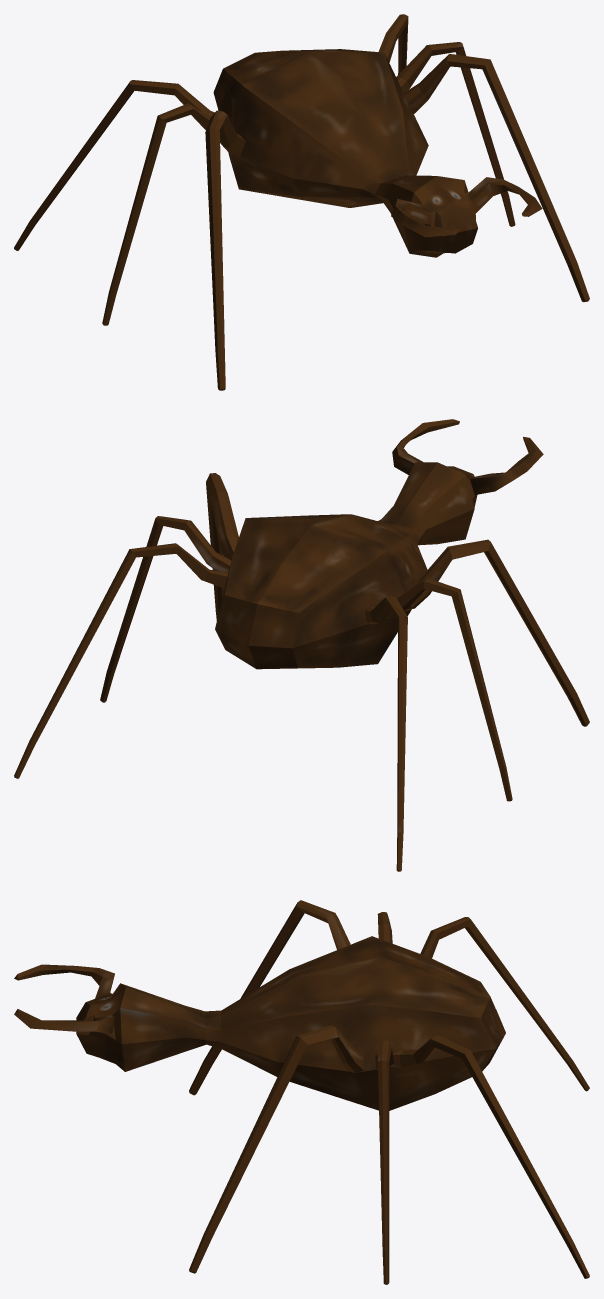
The model's file is Bug.fbx.
3 views of the same model, one above another, from view 1: azimuth 30°, elevation 25°; view 2: azimuth 150°, elevation 25°; view 3: azimuth 270°, elevation 25° (orthographic).
Visible parts, largest first — view 1: Original_Bug:Original_Bug:Group28540; view 2: Original_Bug:Original_Bug:Group28540; view 3: Original_Bug:Original_Bug:Group28540.
Part boxes in pixels (x1,y1,x2,y2): Original_Bug:Original_Bug:Group28540: (14, 14, 589, 390); Original_Bug:Original_Bug:Group28540: (14, 419, 589, 871); Original_Bug:Original_Bug:Group28540: (14, 900, 589, 1284).
Bounding box in the file's own units: 56.33 × 29.51 × 67.79.
Materials: 1 (1 with a texture image).
